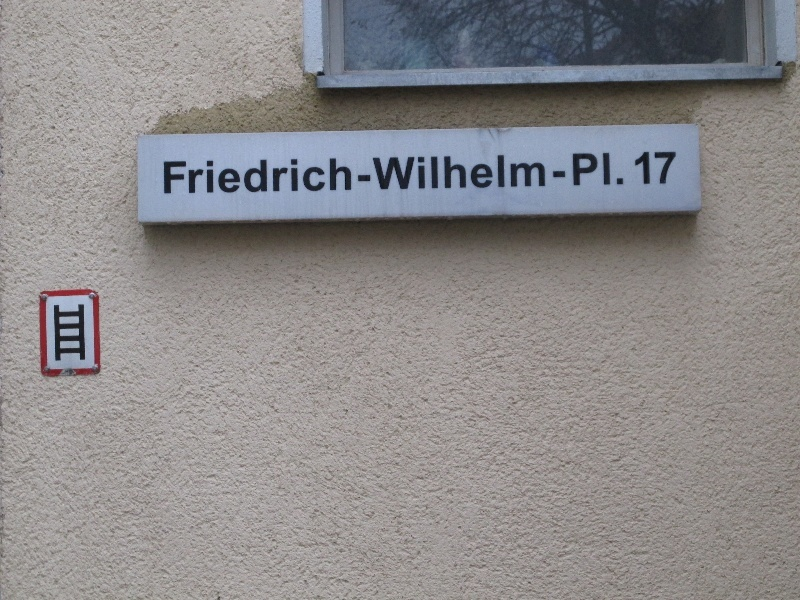text: (177, 150, 192, 198), (193, 150, 208, 198), (209, 150, 224, 198), (225, 150, 240, 198), (241, 150, 256, 198), (257, 150, 272, 198), (273, 150, 288, 198), (289, 150, 304, 198), (305, 150, 320, 198), (321, 150, 336, 198), (337, 150, 352, 198), (353, 150, 368, 198), (369, 150, 384, 198), (385, 150, 400, 198), (401, 150, 416, 198), (417, 150, 432, 198), (433, 150, 448, 198), (449, 150, 464, 198), (465, 150, 480, 198), (481, 150, 496, 198), (497, 150, 512, 198), (513, 150, 528, 198), (529, 150, 544, 198), (545, 150, 560, 198), (561, 150, 576, 198), (577, 150, 592, 198), (593, 150, 608, 198), (609, 150, 624, 198), (625, 150, 640, 198), (641, 150, 656, 198), (657, 150, 672, 198), (163, 150, 176, 198), (673, 150, 679, 198)
